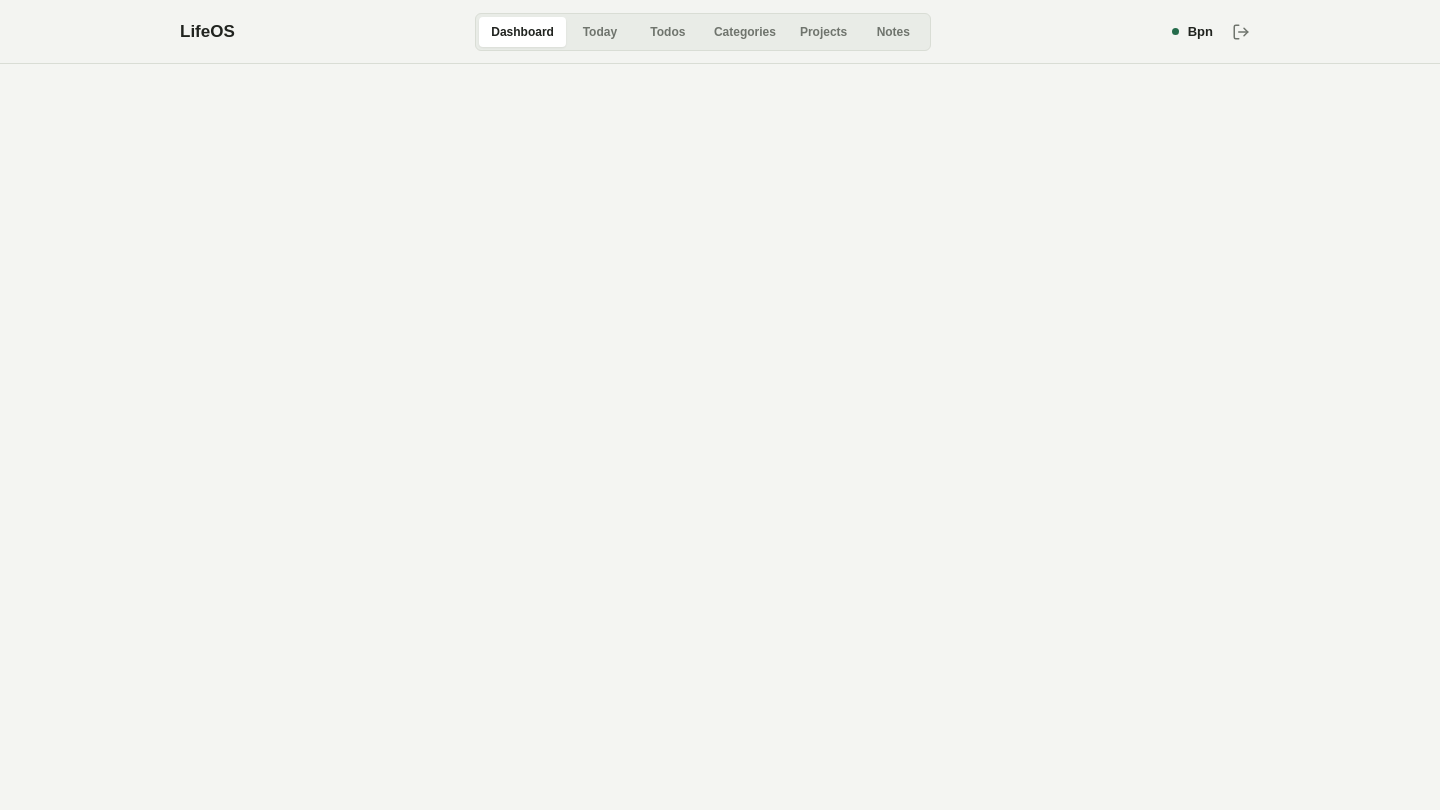
Test: completes a Todo with a bodyless idempotent request and exposes transient Undo
Click the button "Today": (600,32) [566,16,634,46]
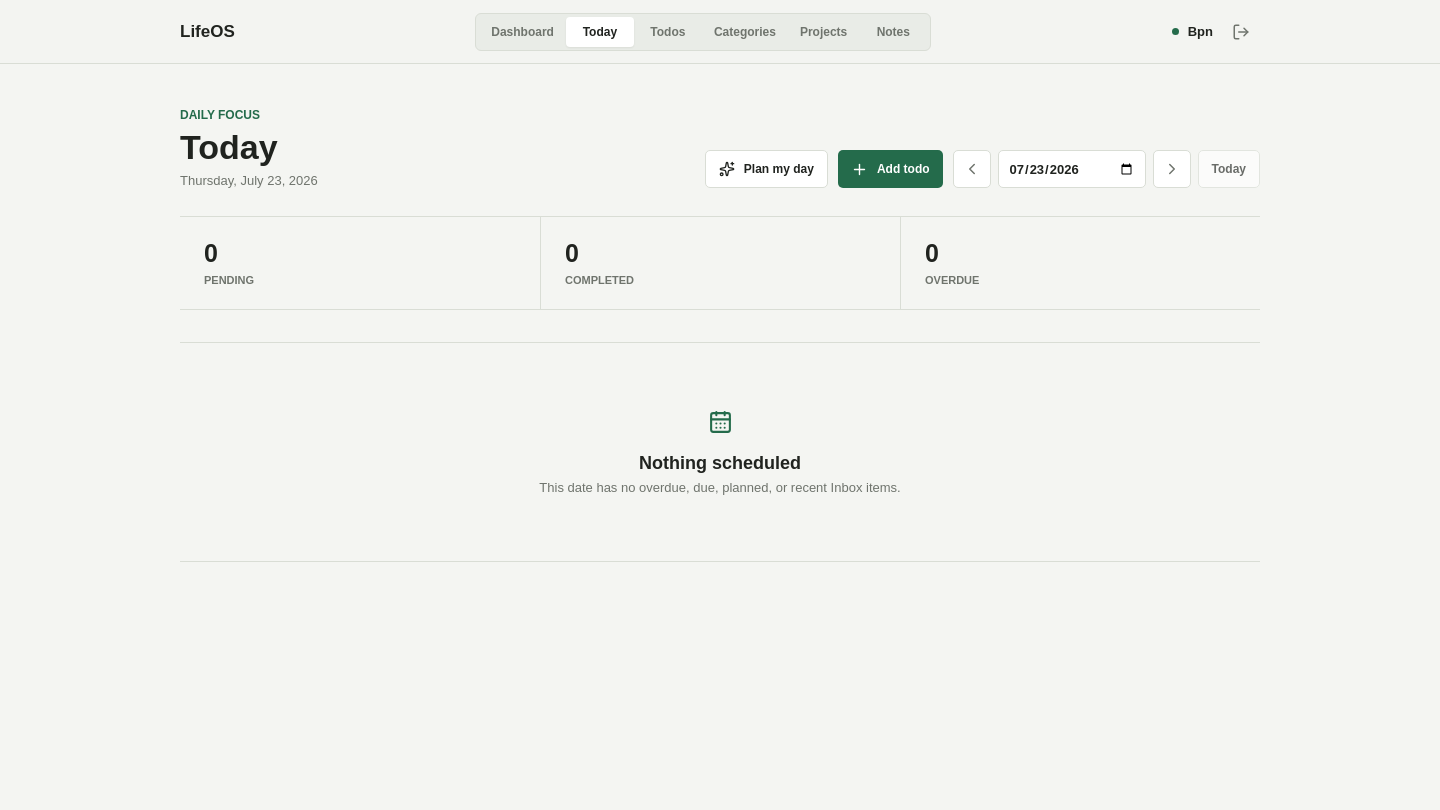
Check: the heading "Nothing scheduled" is shown, box [639,452,801,474]
Click the button "Todos": (668,32) [634,16,702,46]
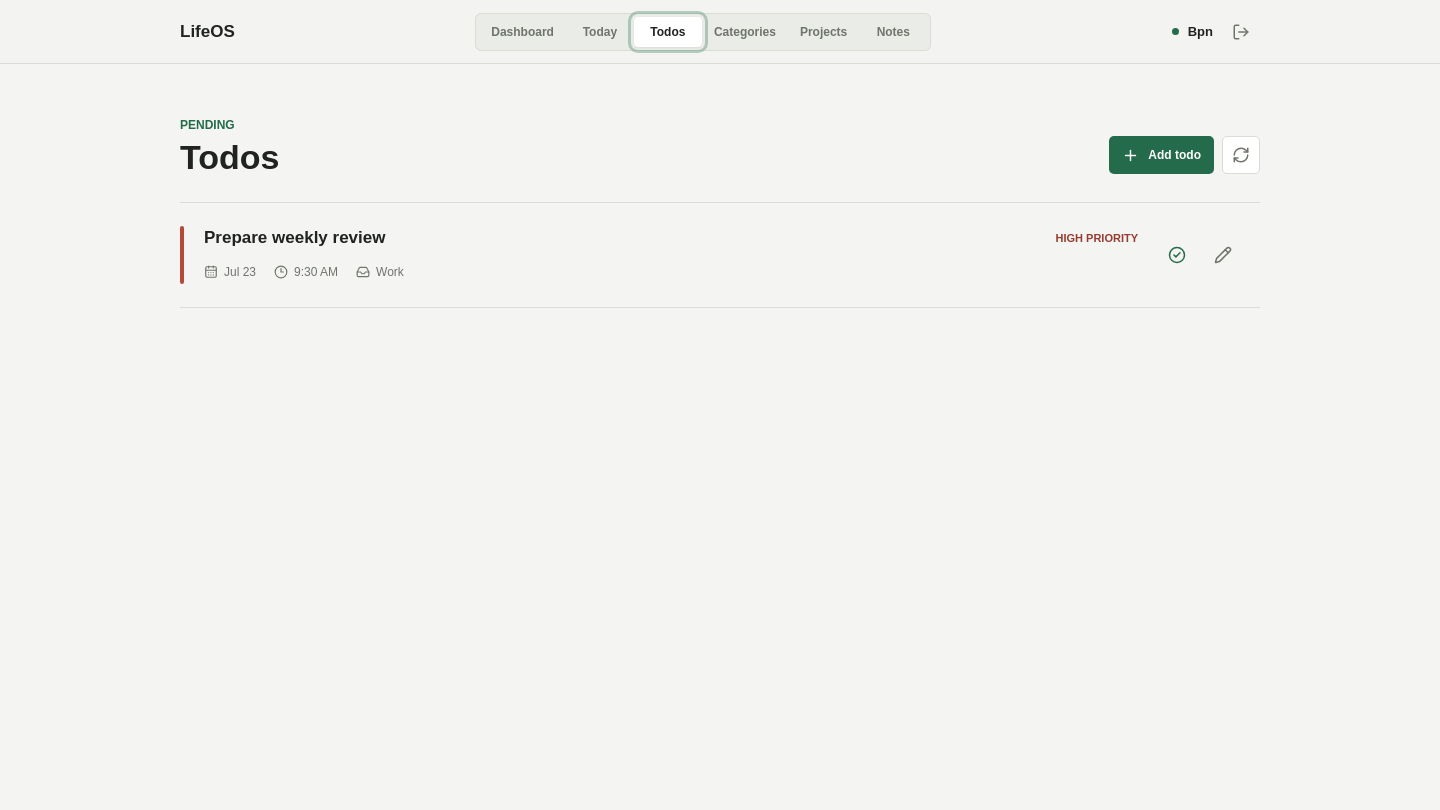
Click the button named "Complete Prepare weekly review": (1177,255) [1158,236,1196,274]
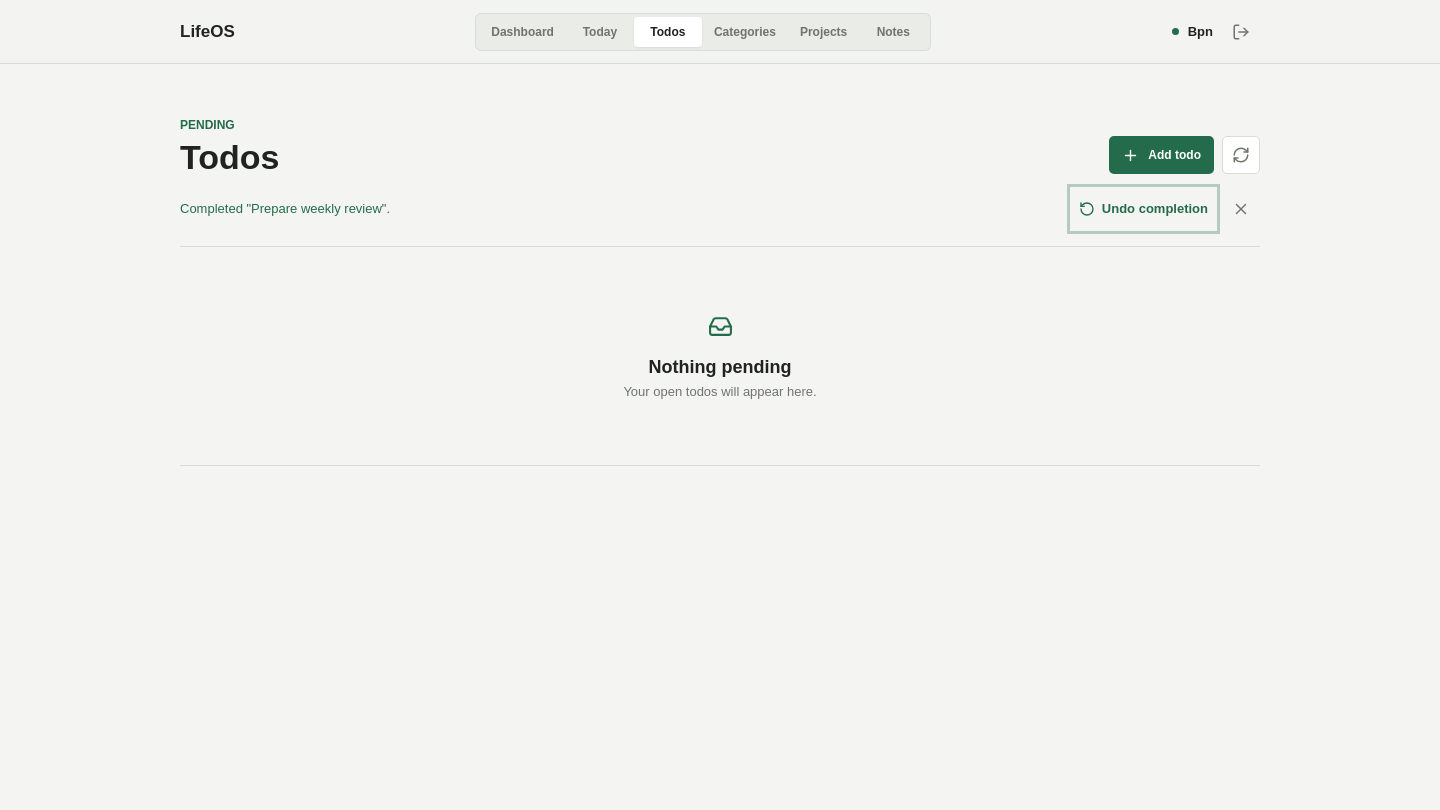
Check: the text "Completed \"Prepare weekly review\"." is shown, box [180,199,390,219]
Check: the button "Undo completion" is shown, box [1073,190,1214,228]
